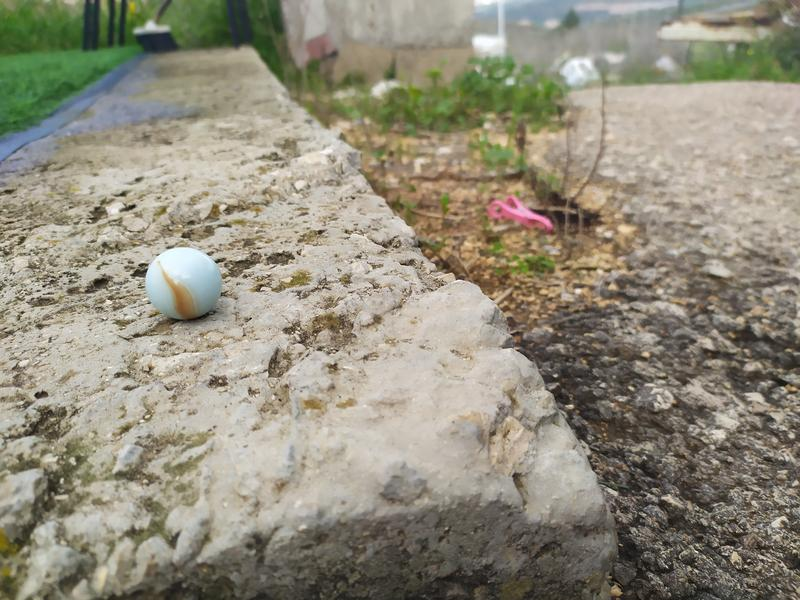Warning: (143, 244, 225, 323)
